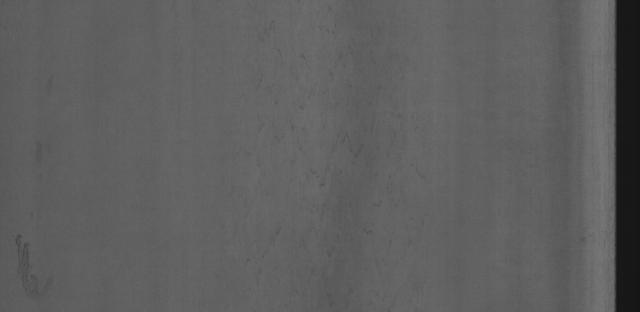silk_spot: (221, 43, 437, 300)
water_spot: (10, 225, 77, 309)
